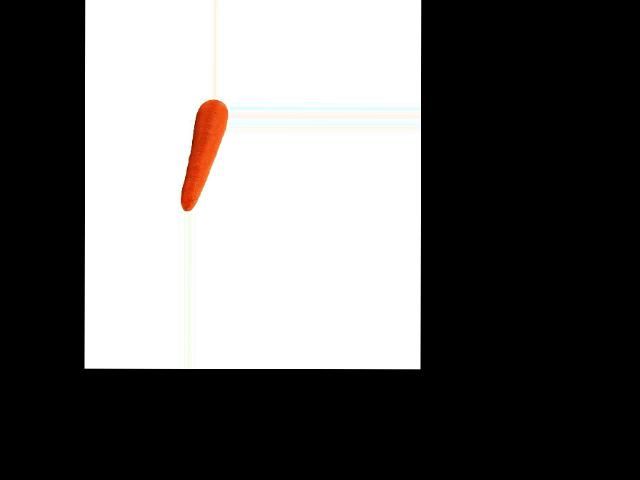carrot: (175, 118, 227, 213)
